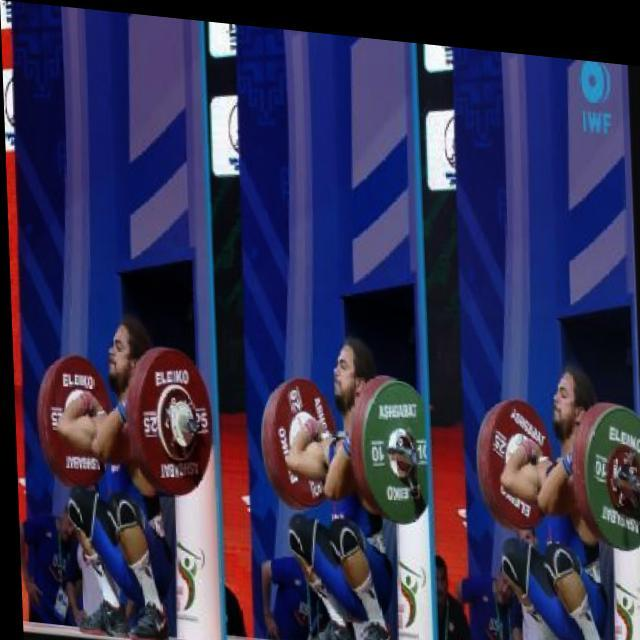barbell: (131, 338, 214, 501), (574, 388, 640, 545), (357, 365, 422, 519)
